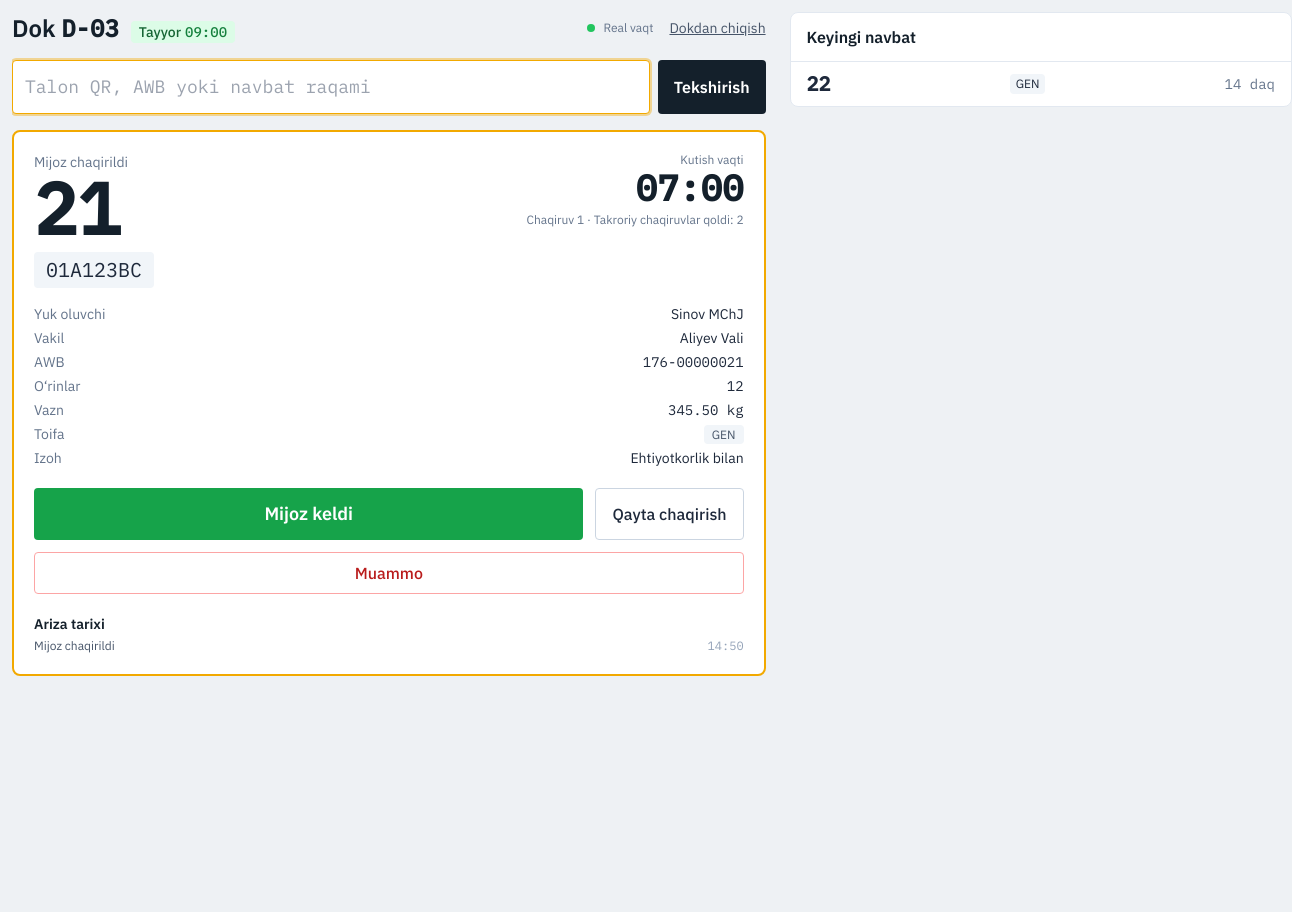
DockPage at a dock › shows the server's message for an unknown ticket
Type "999" into the field named "Talonni skanerlash" at (331, 87), box [12, 60, 650, 114]
Then press Enter
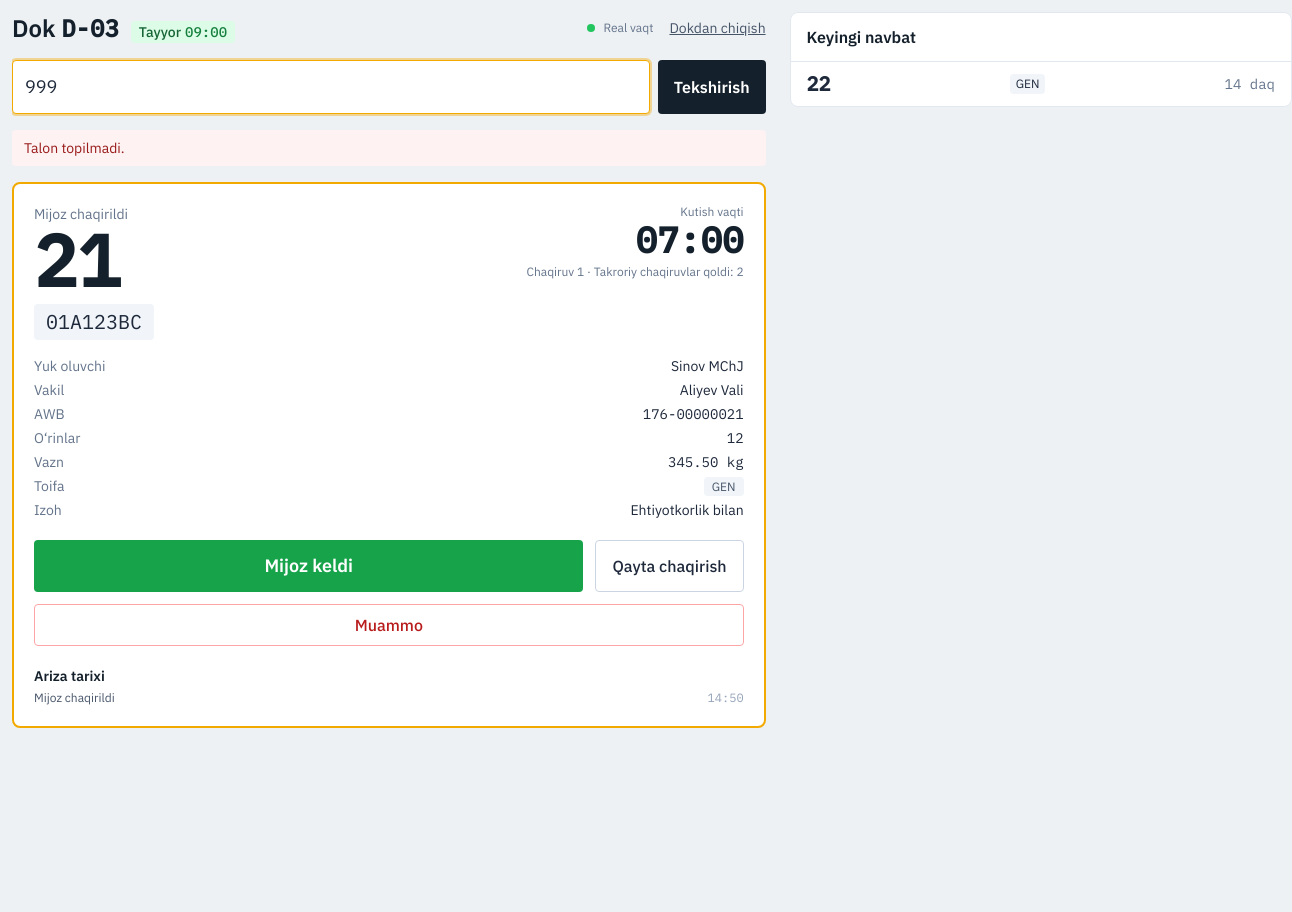
Expected: the message reads "Talon topilmadi.", [24, 139, 125, 157]
